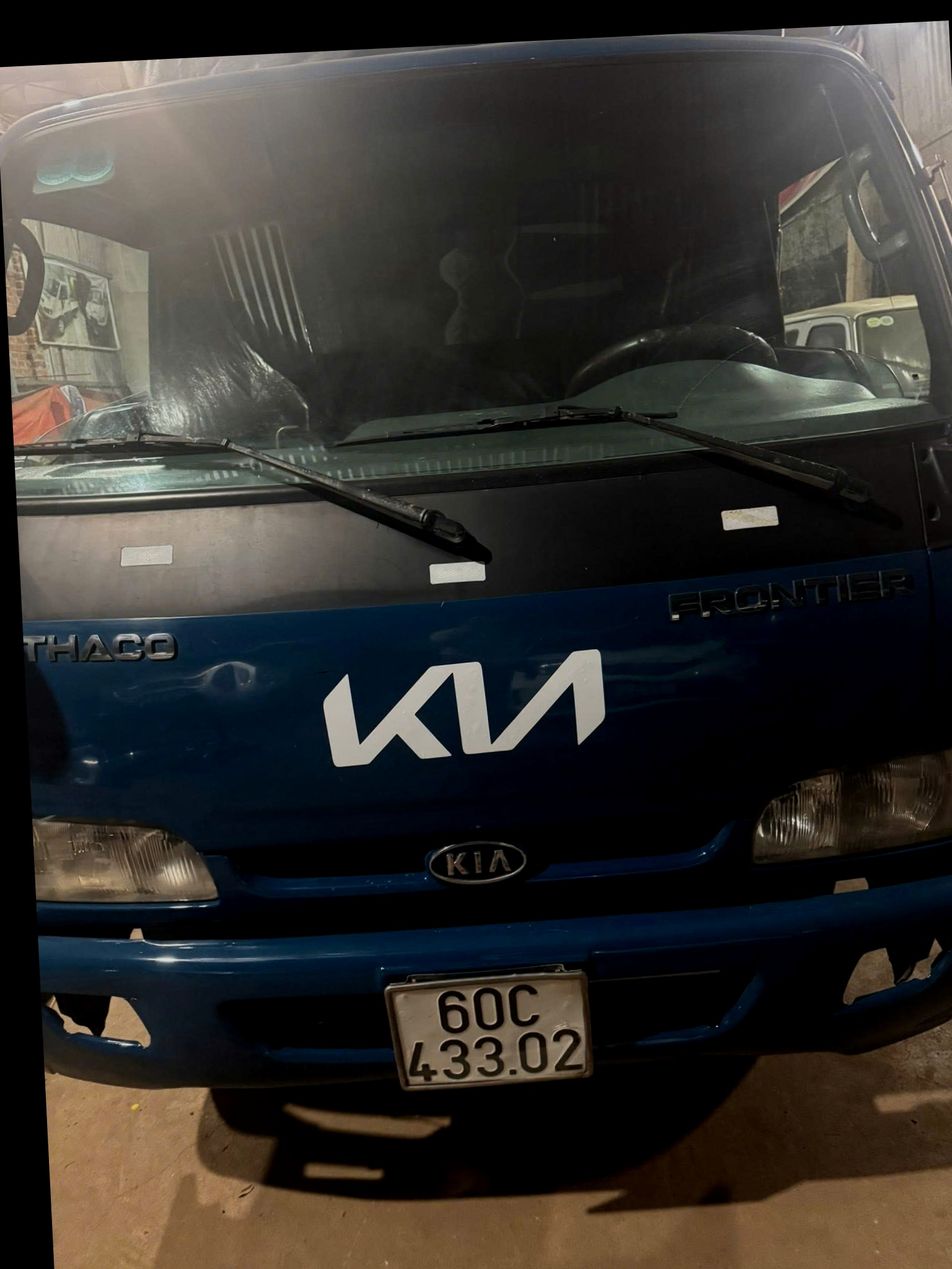Bien-so: (343, 948, 540, 1054)
